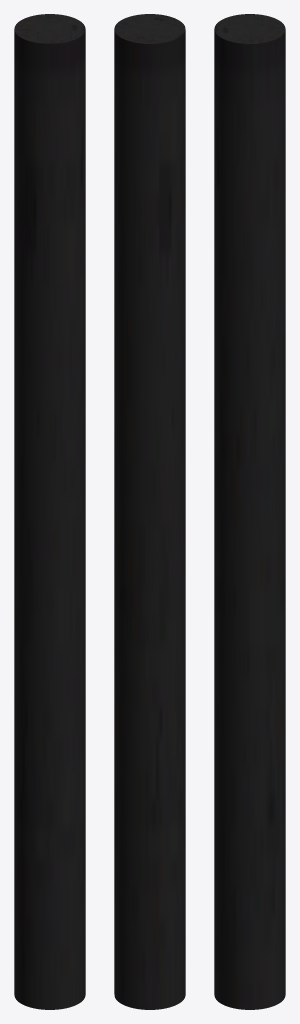
File: light_lamppost.glb
3 renders of one model, left to right at view 1: azimuth 90°, elevation 25°; view 2: azimuth 150°, elevation 25°; view 3: azimuth 270°, elevation 25°, orthographic.
Visible parts, largest first — view 1: MeshInstance3D; view 2: MeshInstance3D; view 3: MeshInstance3D.
Boxes of the visible parts, x1,y1,x2,y2 form: MeshInstance3D: (14,14,85,1009); MeshInstance3D: (114,14,185,1009); MeshInstance3D: (214,14,285,1009).
Bounding box in the file's own units: 0.2 × 3 × 0.2.
Materials: 1 (1 with a texture image).
